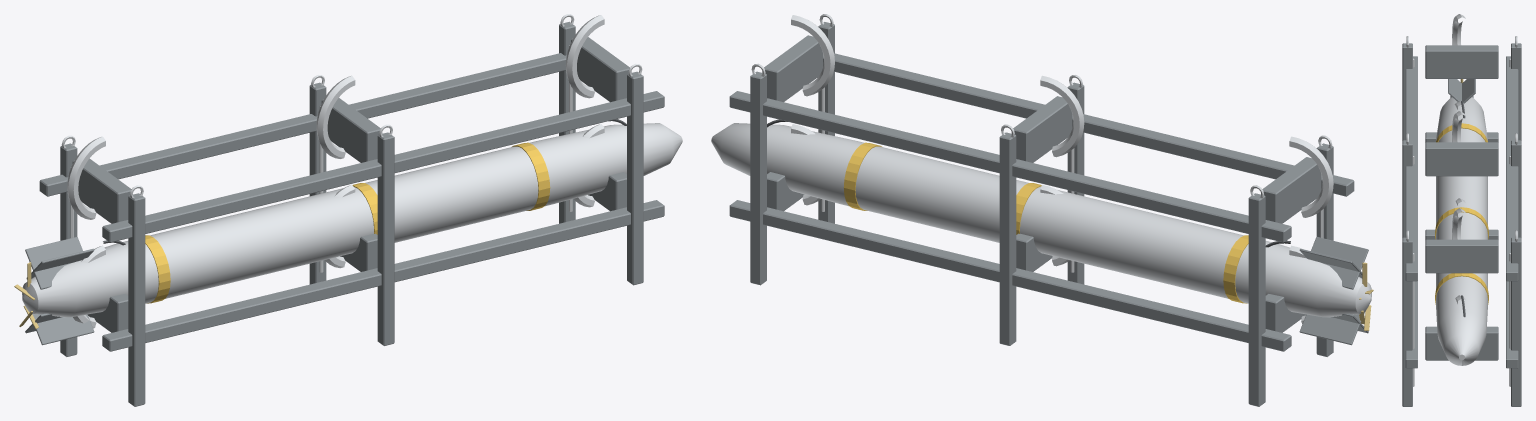
Rendered from submarine-interior-and-control-room-torpedo-stowage-ra-b6027bd6__36495.glb.
3 renders of one model, left to right at view 1: azimuth 30°, elevation 25°; view 2: azimuth 150°, elevation 25°; view 3: azimuth 270°, elevation 25°, orthographic. The views are drawn at different scales.
Parts seen in each view (by area): view 1: torpedo-stowage-rack; view 2: torpedo-stowage-rack; view 3: torpedo-stowage-rack.
Boxes of the visible parts, bbox=[...] form: torpedo-stowage-rack: bbox=[14, 14, 682, 406]; torpedo-stowage-rack: bbox=[711, 14, 1373, 406]; torpedo-stowage-rack: bbox=[1402, 14, 1521, 406].
Size of the model in its own units: 5.84 by 2.05 by 1.14.
